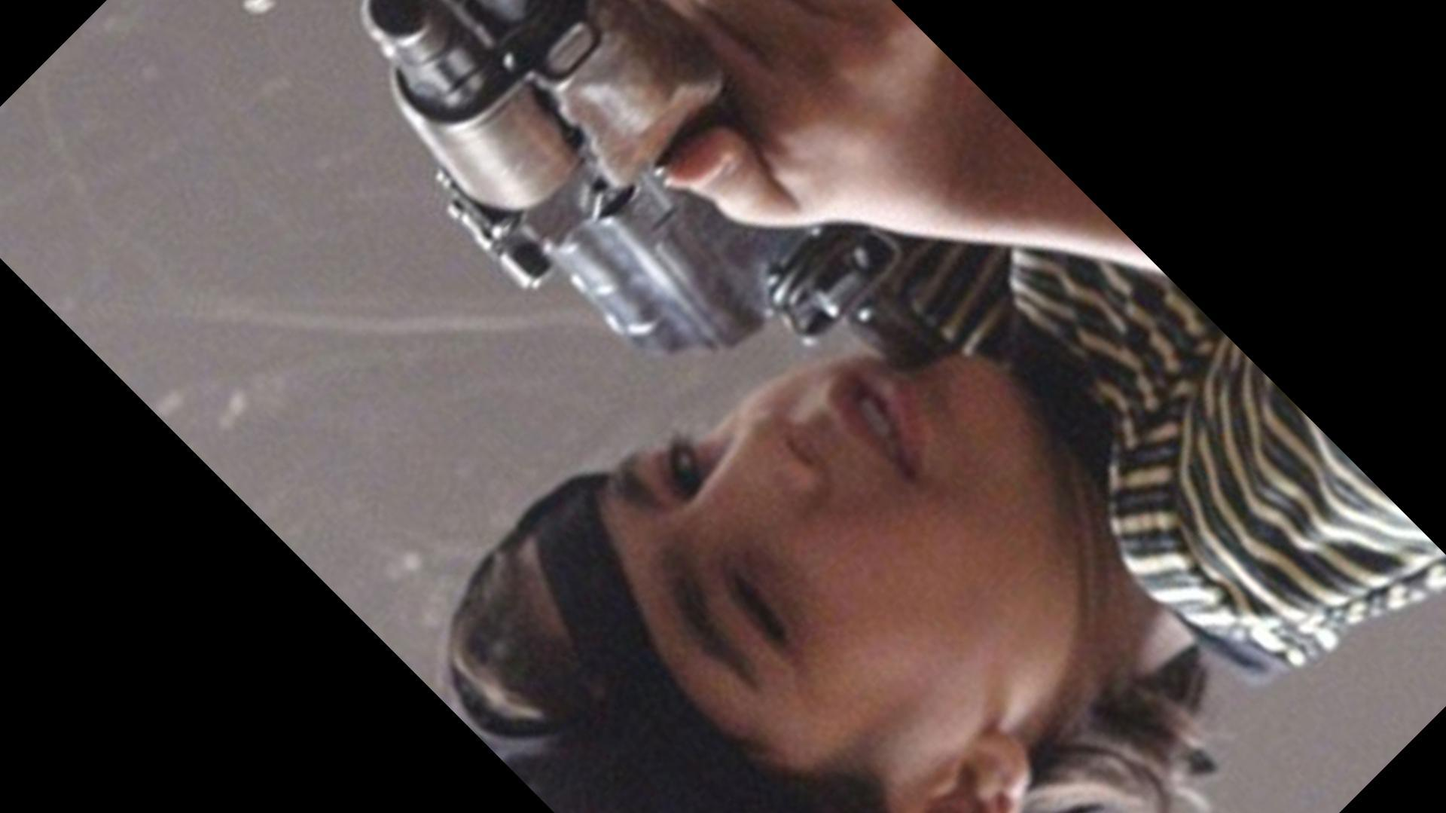larga: (360, 0, 985, 362)
